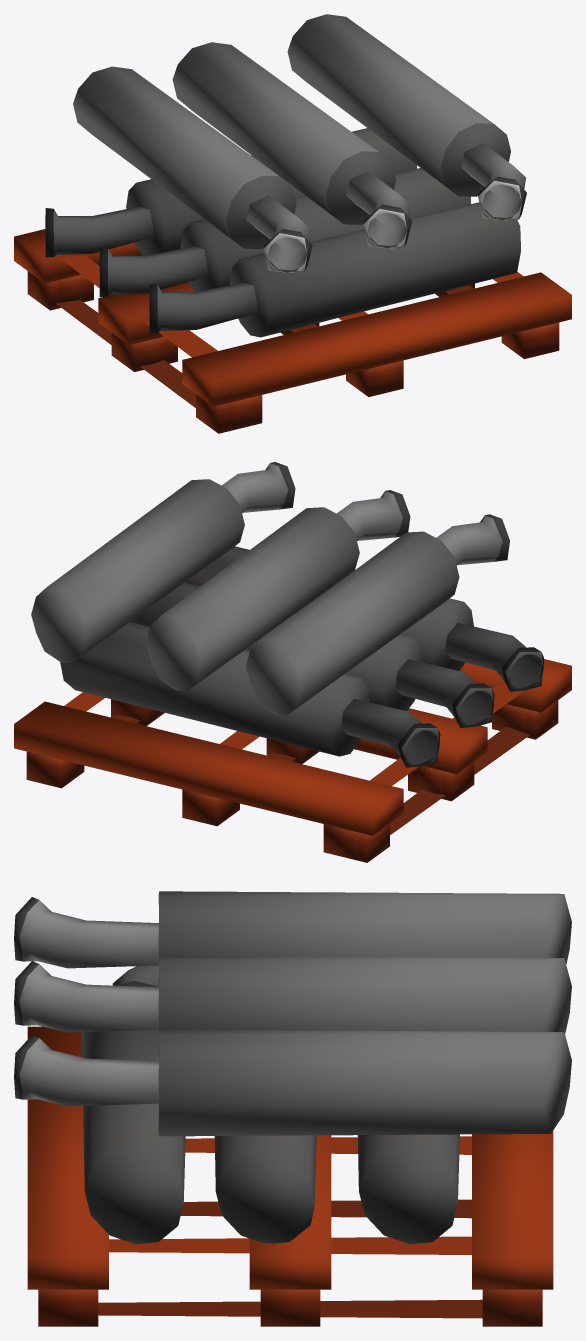
File: EscapePalete.glb
3 views of the same model, one above another, from view 1: azimuth 30°, elevation 25°; view 2: azimuth 150°, elevation 25°; view 3: azimuth 270°, elevation 25° (orthographic). The views are drawn at different scales.
Parts seen in each view (by area): view 1: EscapePalete; view 2: EscapePalete; view 3: EscapePalete.
Boxes of the visible parts, left/top/right/bottom form: EscapePalete: left=14, top=14, right=571, bottom=433; EscapePalete: left=14, top=462, right=571, bottom=862; EscapePalete: left=14, top=891, right=571, bottom=1326.
Bounding box in the file's own units: 2.1 × 1.08 × 2.04.
Materials: 1 (1 with a texture image).
